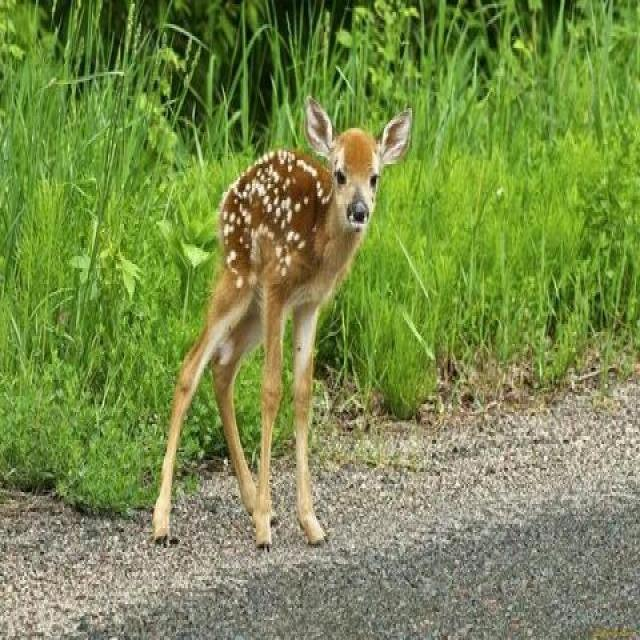deer: (160, 57, 420, 563)
